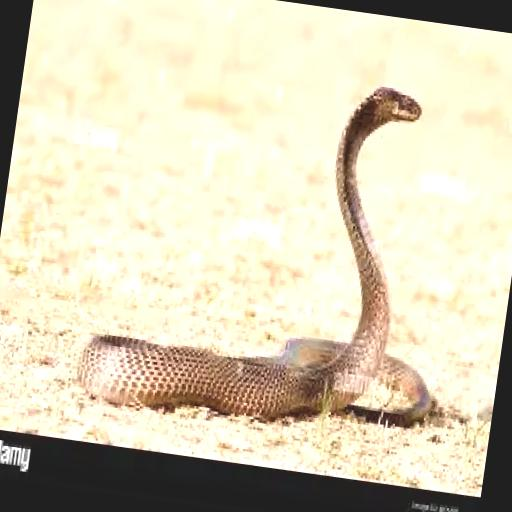snake: (78, 87, 432, 426)
